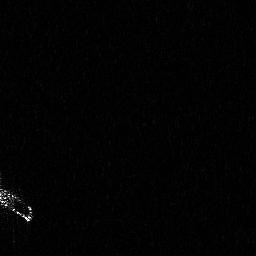ship: (1, 176, 35, 223)
